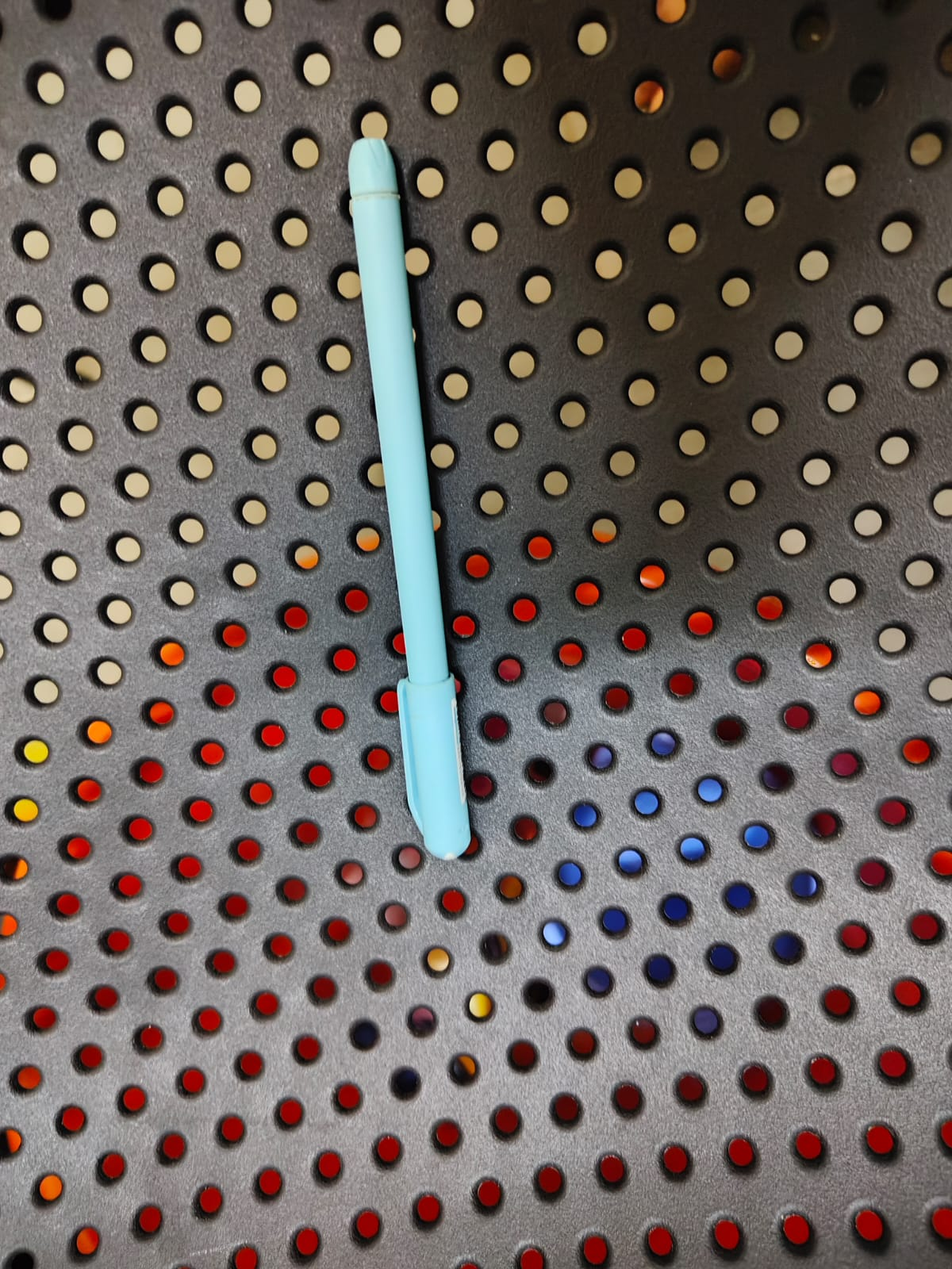pen: (323, 117, 489, 869)
